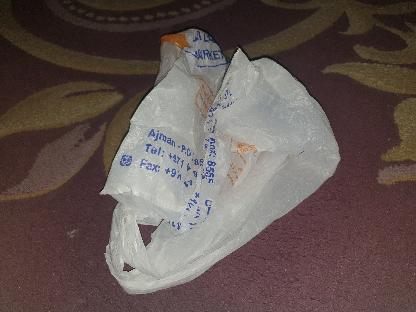Plastic Bag: (98, 28, 342, 294)
